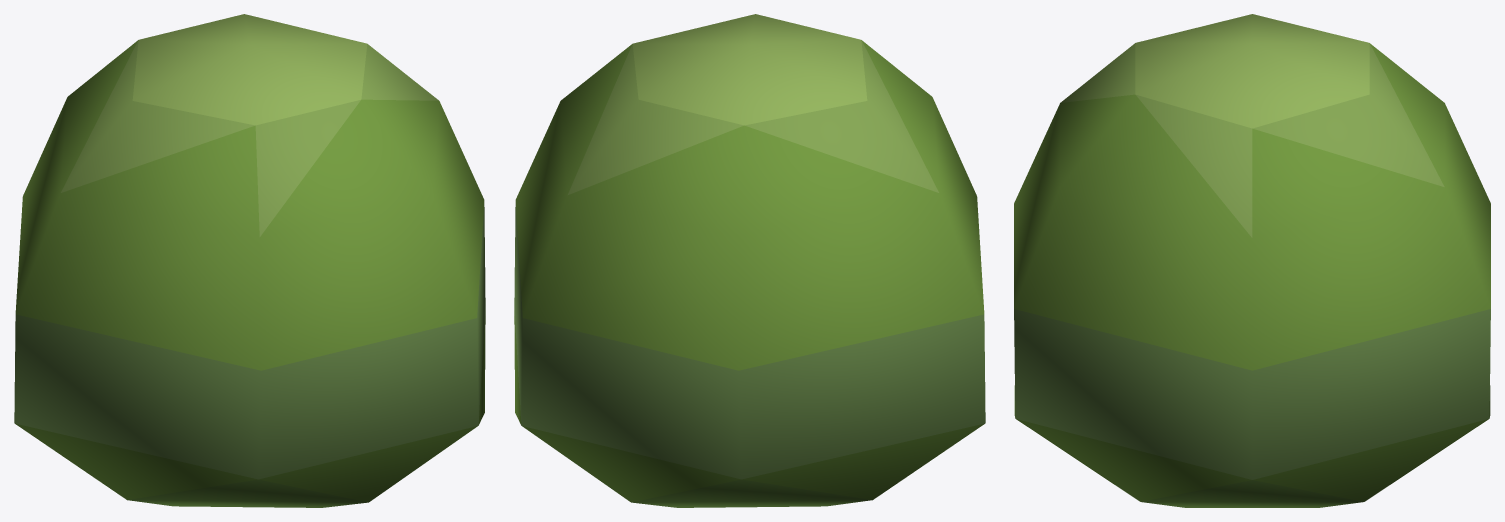
Rendered from itch_kaykit_forest_bush_1_a_color1.glb.
3 renders of one model, left to right at view 1: azimuth 30°, elevation 25°; view 2: azimuth 150°, elevation 25°; view 3: azimuth 270°, elevation 25°, orthographic.
Parts seen in each view (by area): view 1: Bush_1_A_Color1; view 2: Bush_1_A_Color1; view 3: Bush_1_A_Color1.
Boxes of the visible parts, x1,y1,x2,y2 form: Bush_1_A_Color1: (14, 14, 485, 507); Bush_1_A_Color1: (514, 14, 985, 507); Bush_1_A_Color1: (1014, 14, 1490, 507).
Size of the model in its own units: 0.96 by 0.8144 by 0.8411.
